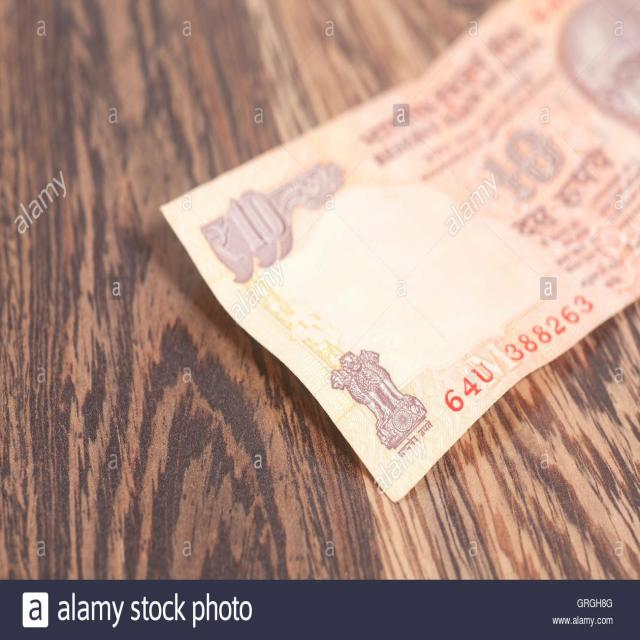10IndianRupees: (160, 0, 640, 503)
